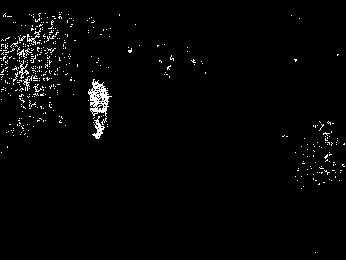person: (87, 78, 110, 139)
